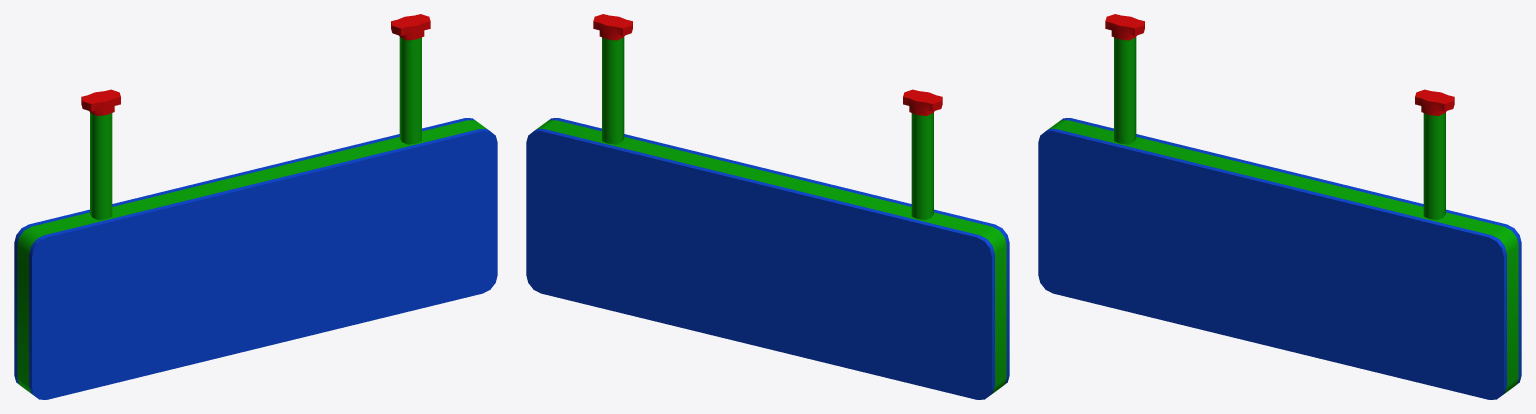
Rendered from large hanging sign - for paint.fbx.
3 renders of one model, left to right at view 1: azimuth 30°, elevation 25°; view 2: azimuth 150°, elevation 25°; view 3: azimuth 330°, elevation 25°, orthographic.
Parts seen in each view (by area): view 1: Cube; view 2: Cube; view 3: Cube.
Part boxes in pixels (bbox=[...]): Cube: bbox=[14, 14, 497, 399]; Cube: bbox=[526, 14, 1009, 399]; Cube: bbox=[1038, 14, 1521, 399].
Bounding box in the file's own units: 300 × 173 × 20.
